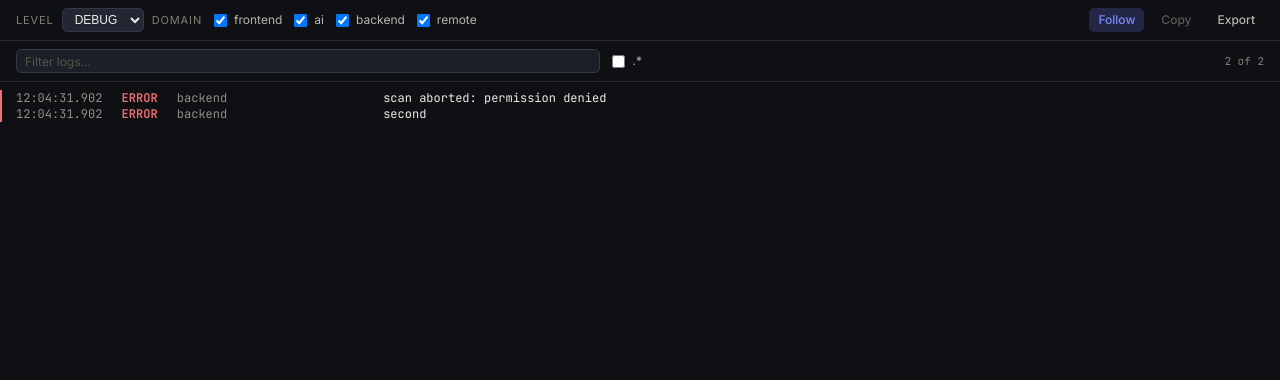
Test: expanding a record (LOG-FR-04) › expands in place to the full record, keeping fields the columns did not show
What coordinates should you click on to do the following:
click the 1st button with class "logs__line"
I would click on:
 (59, 98)
Its box is [0,90,1279,106].
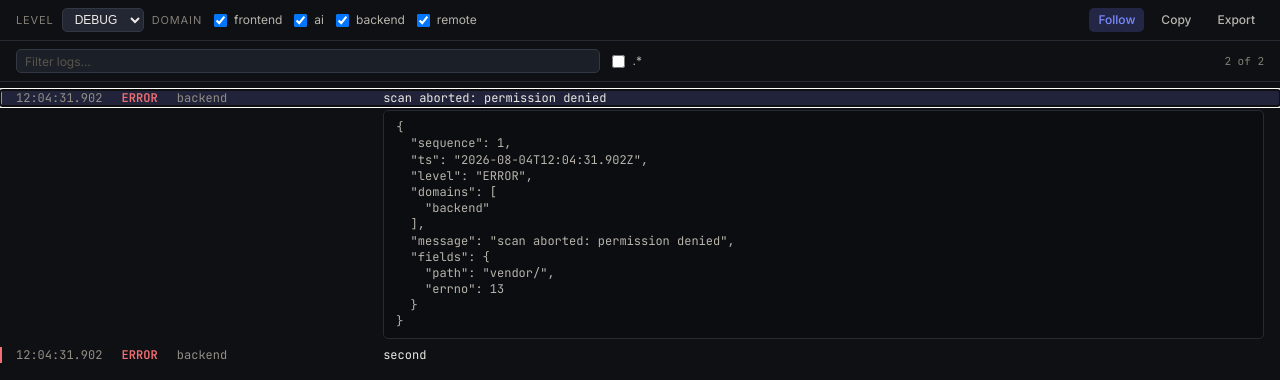
Check: the text with test id "logs-json" shows "errno", box [396,119,735,330]
